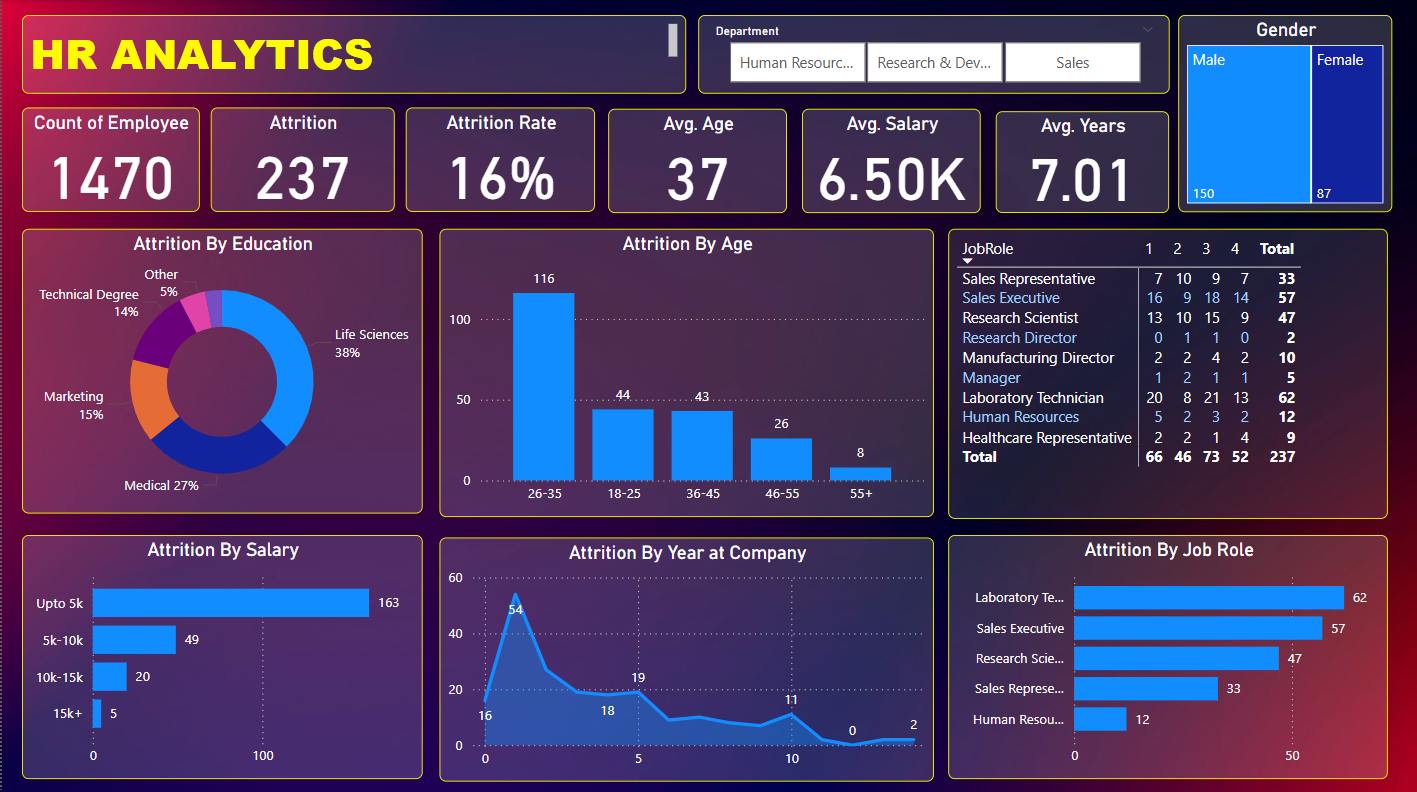

Layout of this report page (visuals, bound fields, positions):
{"tool":"powerbi","page":{"name":"Page 1","canvas":[1280,720],"ordinal":0},"visuals":[{"type":"card","title":"Count of Employee","fields":{"Values":["CountNonNull(HR_Analytics.EmpID)"]},"box":[17.8,97.4,160.5,94.7],"z":0},{"type":"card","title":"Attrition","fields":{"Values":["Sum(HR_Analytics.Attrition Count)"]},"box":[189.4,97.4,166,94.7],"z":1000},{"type":"card","title":"Attrition Rate","fields":{"Values":["HR_Analytics.Attritionrate"]},"box":[365,97.4,171.5,94.7],"z":2000},{"type":"card","title":"Avg. Age","fields":{"Values":["Avg(HR_Analytics.Age)"]},"box":[548.9,98.8,161.9,94.7],"z":3000},{"type":"card","title":"Avg. Salary","fields":{"Values":["Avg(HR_Analytics.MonthlyIncome)"]},"box":[723.2,98.8,161.9,94.7],"z":4000},{"type":"card","title":"Avg. Years","fields":{"Values":["Avg(HR_Analytics.YearsAtCompany)"]},"box":[898.8,100.2,156.4,91.9],"z":5000},{"type":"donutChart","title":"Attrition By Education","fields":{"Category":["HR_Analytics.EducationField"],"Y":["Sum(HR_Analytics.Attrition Count)"]},"box":[17.8,207.2,362.3,258],"z":6000},{"type":"columnChart","title":"Attrition By Age","fields":{"Category":["HR_Analytics.AgeGroup"],"Y":["Sum(HR_Analytics.Attrition Count)"]},"box":[395.2,207.2,447.3,260.7],"z":7000},{"type":"pivotTable","title":"Attrition By Age","fields":{"Rows":["HR_Analytics.JobRole"],"Columns":["HR_Analytics.JobSatisfaction"],"Values":["Sum(HR_Analytics.Attrition Count)"]},"box":[856.3,207.2,397.9,262.1],"z":8000},{"type":"clusteredBarChart","title":"Attrition By Salary","fields":{"Category":["HR_Analytics.SalarySlab"],"Y":["Sum(HR_Analytics.Attrition Count)"]},"box":[17.8,484.4,362.3,220.9],"z":9000},{"type":"areaChart","title":"Attrition By Year at Company","fields":{"Category":["HR_Analytics.YearsAtCompany"],"Y":["Sum(HR_Analytics.Attrition Count)"]},"box":[395.2,485.8,447.3,220.9],"z":10000},{"type":"clusteredBarChart","title":"Attrition By Job Role","fields":{"Category":["HR_Analytics.JobRole"],"Y":["Sum(HR_Analytics.Attrition Count)"]},"box":[856.3,484.4,397.9,220.9],"z":11000},{"type":"treemap","title":"Gender","fields":{"Group":["HR_Analytics.Gender"],"Values":["Sum(HR_Analytics.Attrition Count)"]},"box":[1063.5,13.7,193.5,178.4],"z":12000},{"type":"slicer","fields":{"Values":["HR_Analytics.Department"]},"box":[629.8,13.7,426.8,71.4],"z":12001},{"type":"textbox","box":[17.8,13.7,601,71.4],"z":12002}]}

Visuals, with their boxes in screenshot pixels (x1, y1, x2, y2), scaled from the page's 1280x720 canvas onto the 1417x792 screenshot:
"Count of Employee" card: detection(20, 107, 197, 211)
"Attrition" card: detection(210, 107, 393, 211)
"Attrition Rate" card: detection(404, 107, 594, 211)
"Avg. Age" card: detection(608, 109, 787, 213)
"Avg. Salary" card: detection(801, 109, 980, 213)
"Avg. Years" card: detection(995, 110, 1168, 211)
"Attrition By Education" donutChart: detection(20, 228, 421, 512)
"Attrition By Age" columnChart: detection(437, 228, 933, 515)
"Attrition By Age" pivotTable: detection(948, 228, 1388, 516)
"Attrition By Salary" clusteredBarChart: detection(20, 533, 421, 776)
"Attrition By Year at Company" areaChart: detection(437, 534, 933, 777)
"Attrition By Job Role" clusteredBarChart: detection(948, 533, 1388, 776)
"Gender" treemap: detection(1177, 15, 1392, 211)
slicer - HR_Analytics.Department: detection(697, 15, 1170, 94)
textbox: detection(20, 15, 685, 94)
